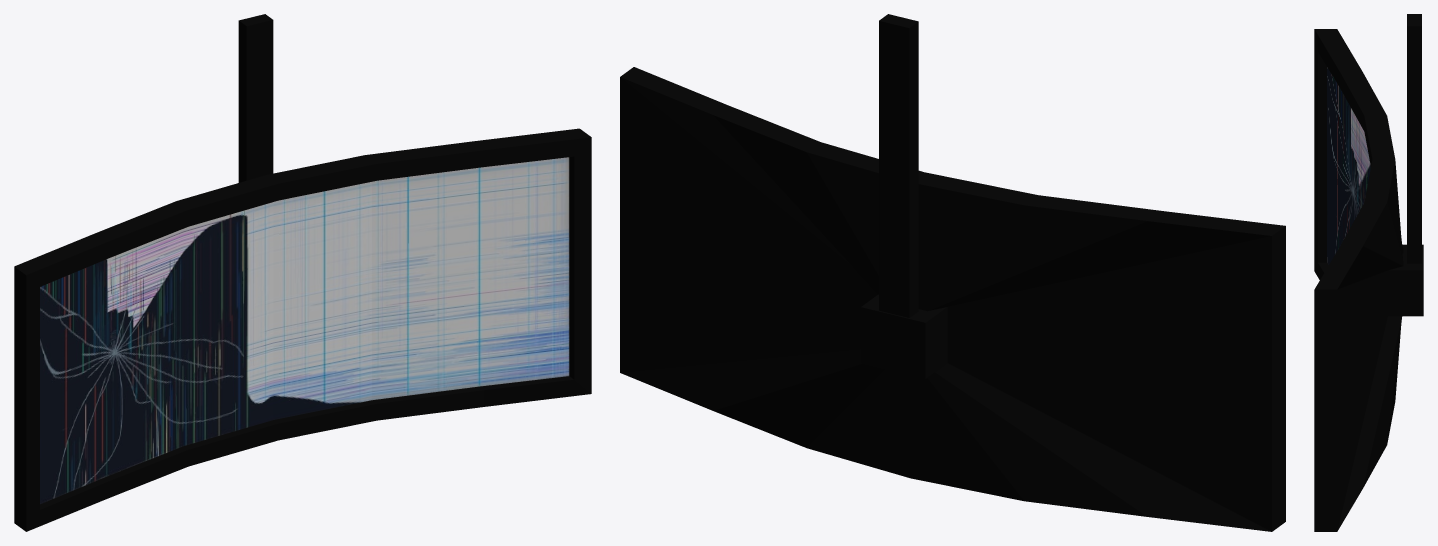
The model's file is TeleRoto.fbx.
3 views of the same model, side by side, from view 1: azimuth 30°, elevation 25°; view 2: azimuth 150°, elevation 25°; view 3: azimuth 270°, elevation 25° (orthographic). The views are drawn at different scales.
Visible parts, largest first — view 1: Plane; view 2: Plane; view 3: Plane.
Boxes of the visible parts, left/top/right/bottom form: Plane: left=14, top=14, right=591, bottom=531; Plane: left=620, top=14, right=1285, bottom=531; Plane: left=1314, top=14, right=1423, bottom=531.
Bounding box in the file's own units: 948 × 647 × 168.
Materials: 2 (1 with a texture image).
